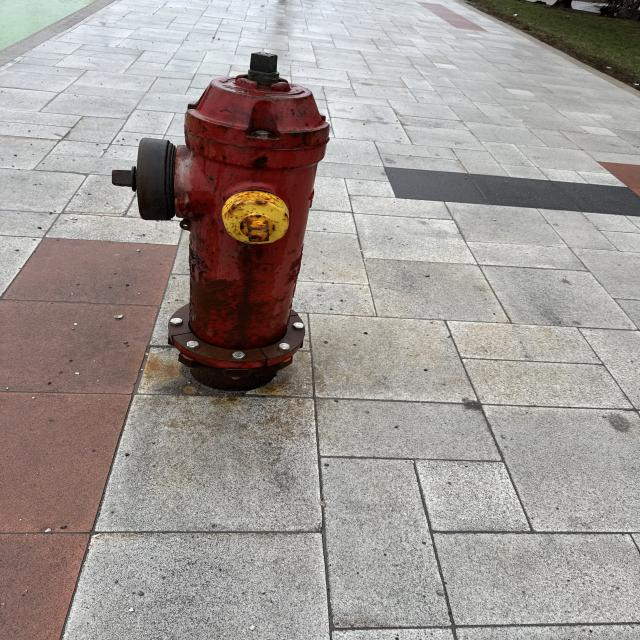Fire hydrant: (110, 52, 332, 391)
